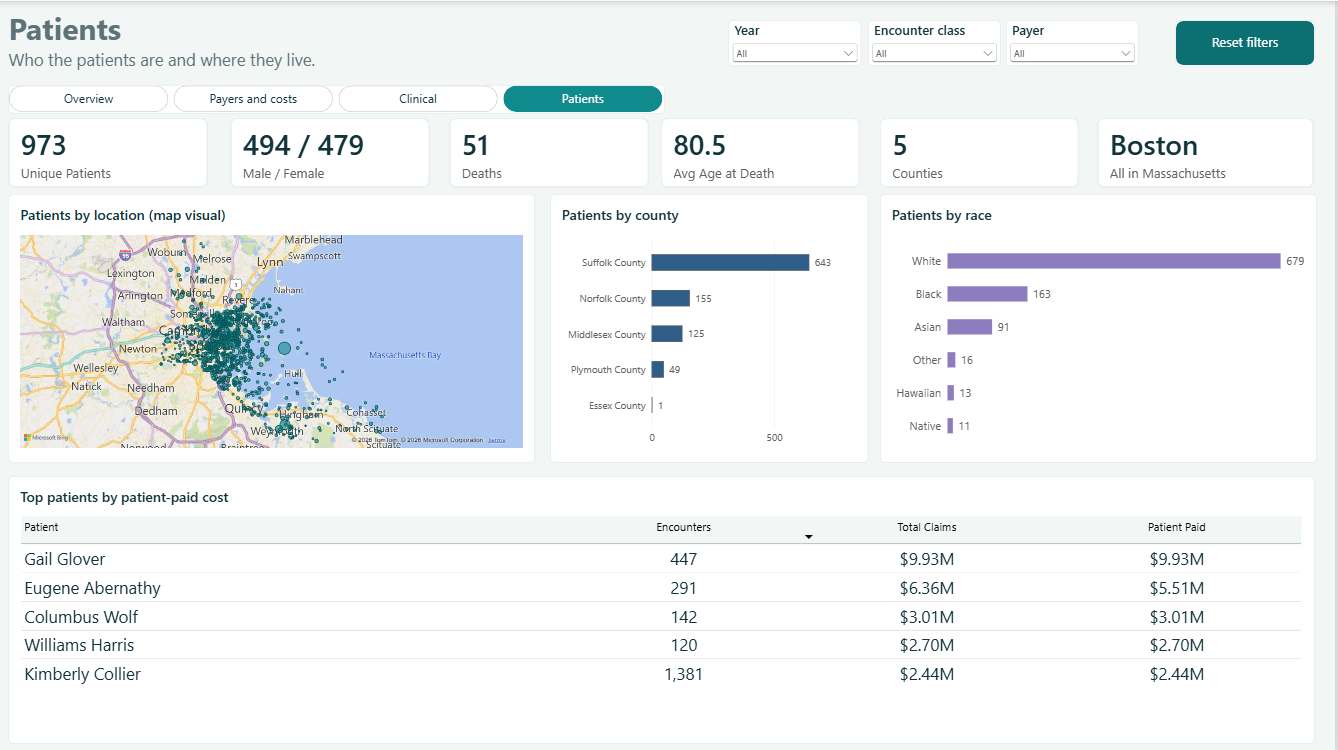

What the dashboard file says about the page in this screenshot:
{"tool":"powerbi","page":{"name":"Patients","canvas":[1920,1080],"ordinal":3},"visuals":[{"type":"cardVisual","fields":{"Data":["_Measures.Unique Patients (card)"]},"box":[19.1,167,285,100],"z":0},{"type":"cardVisual","fields":{"Data":["_Measures.Male / Female Patients"]},"box":[336.4,167,285,100],"z":1000},{"type":"cardVisual","fields":{"Data":["_Measures.Deaths"]},"box":[651.4,167,285,100],"z":2000},{"type":"cardVisual","fields":{"Data":["_Measures.Avg Age at Death"]},"box":[954.4,167,285,100],"z":3000},{"type":"cardVisual","fields":{"Data":["Count(DimPatient.County)"]},"box":[1266.9,167,285,100],"z":4000},{"type":"cardVisual","fields":{"Data":["Min(DimPatient.City)"]},"box":[1579.5,167,310.2,100.2],"z":5000},{"type":"map","title":"Patients by location (map visual)","fields":{"Size":["_Measures.Total Encounters"],"X":["DimPatient.Longitude"],"Y":["DimPatient.Latitude"]},"box":[19.1,276.8,753.9,384.1],"z":6000},{"type":"barChart","title":"Patients by county","fields":{"Category":["DimPatient.County"],"Y":["_Measures.Unique Patients"]},"box":[794.5,276.8,455.7,384.1],"z":7000},{"type":"clusteredBarChart","title":"Patients by race","fields":{"Category":["DimPatient.Race"],"Y":["_Measures.Unique Patients"]},"box":[1266.9,276.8,625.1,384.1],"z":8000},{"type":"textbox","box":[19.1,0,1872.9,119.3],"z":9000},{"type":"tableEx","title":"Top patients by patient-paid cost","fields":{"Values":["DimPatient.FullName","_Measures.Total Encounters","_Measures.Total Claims","_Measures.Patient Paid"]},"box":[19.8,680.3,1870.9,382.7],"z":13000},{"type":"pageNavigator","box":[19.1,119.3,940.1,40.6],"z":14000},{"type":"slicer","title":"Year","fields":{"Values":["DimDate.Year"]},"box":[1049.8,28.6,190,65],"z":14001},{"type":"slicer","title":"Year","fields":{"Values":["DimPayer.PayerName"]},"box":[1448.3,28.6,190,65],"z":14002},{"type":"slicer","title":"Year","fields":{"Values":["FactEncounters.EncounterClass"]},"box":[1250.2,28.6,190,65],"z":14003},{"type":"actionButton","box":[1691.6,28.6,200,65],"z":14004}]}

Visuals, with their boxes in screenshot pixels (x1, y1, x2, y2), scaled from the page's 1920x1080 canvas onto the 1338x750 screenshot:
cardVisual - _Measures.Unique Patients (card): (13, 116, 212, 185)
cardVisual - _Measures.Male / Female Patients: (234, 116, 433, 185)
cardVisual - _Measures.Deaths: (454, 116, 653, 185)
cardVisual - _Measures.Avg Age at Death: (665, 116, 864, 185)
cardVisual - Count(DimPatient.County): (883, 116, 1081, 185)
cardVisual - Min(DimPatient.City): (1101, 116, 1317, 186)
"Patients by location (map visual)" map: (13, 192, 539, 459)
"Patients by county" barChart: (554, 192, 871, 459)
"Patients by race" clusteredBarChart: (883, 192, 1318, 459)
textbox: (13, 0, 1318, 83)
"Top patients by patient-paid cost" tableEx: (14, 472, 1318, 738)
pageNavigator: (13, 83, 668, 111)
"Year" slicer: (732, 20, 864, 65)
"Year" slicer: (1009, 20, 1142, 65)
"Year" slicer: (871, 20, 1004, 65)
actionButton: (1179, 20, 1318, 65)
